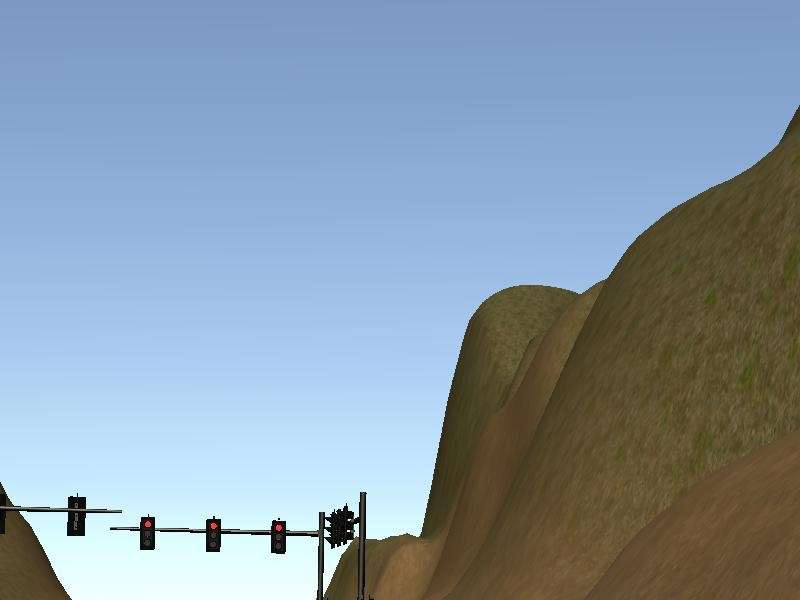red: (136, 514, 160, 556), (203, 517, 227, 559), (266, 517, 290, 559)
